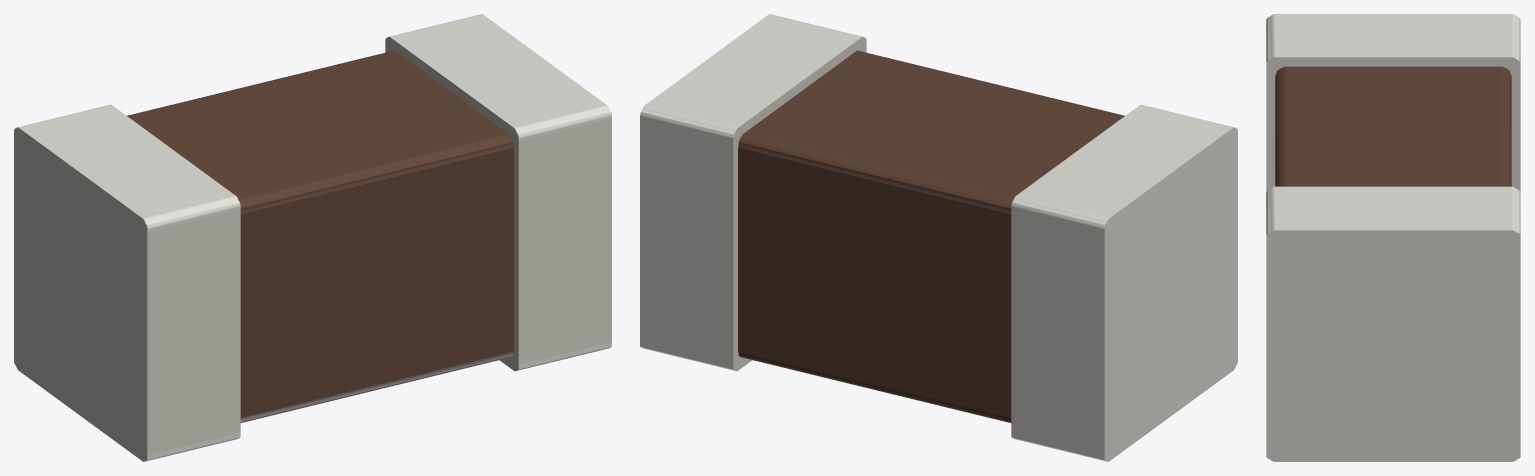
The picture shows the model from 3 angles, left to right: view 1: azimuth 30°, elevation 25°; view 2: azimuth 150°, elevation 25°; view 3: azimuth 270°, elevation 25°; orthographic projection. The views are drawn at different scales.
Size of the model in its own units: 1 by 0.5005 by 0.4979.
